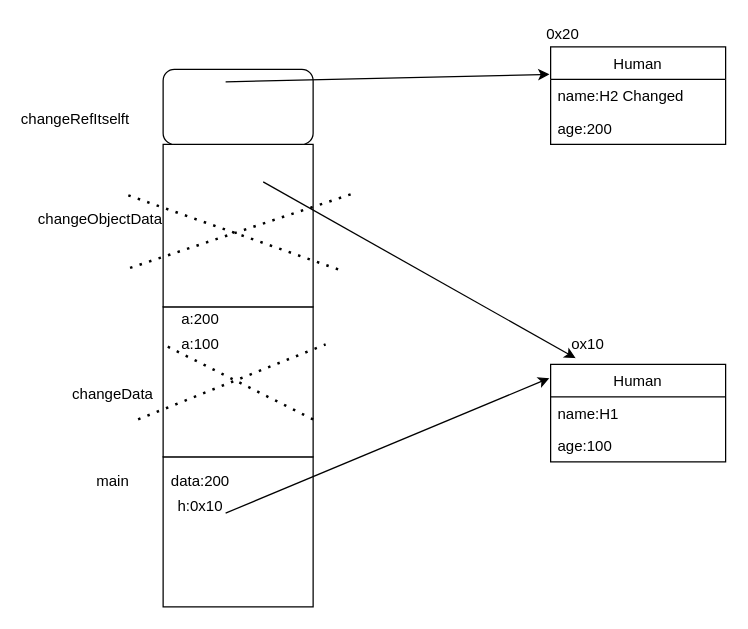
This 748x629 diagram has some shape labels left out. The shapes that lost their labels are listed below. From the top down, each one's centre as x and y in pixels, then its label:
At (237,106): "obj:0x20".
At (237,225): "paramH:0x10".
